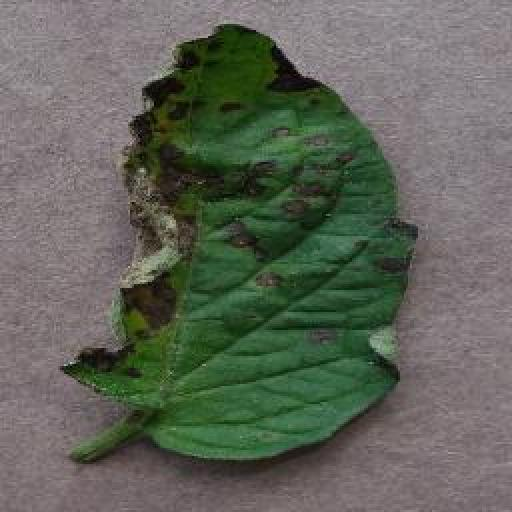Early Blight: (62, 24, 417, 463)
